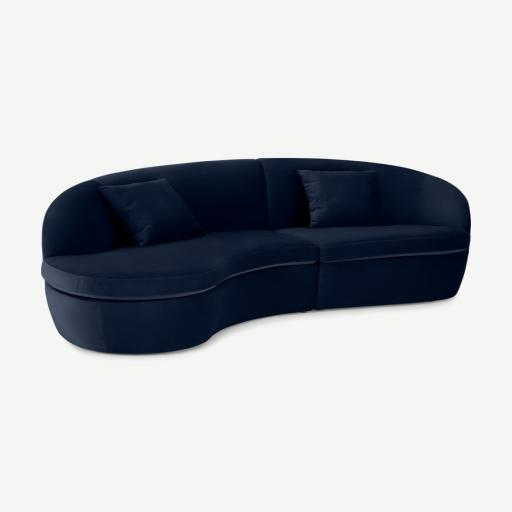back_cushion: (43, 158, 426, 256)
base: (45, 251, 467, 354)
seat_cushion: (42, 225, 469, 299)
two-seater: (0, 0, 511, 512)
